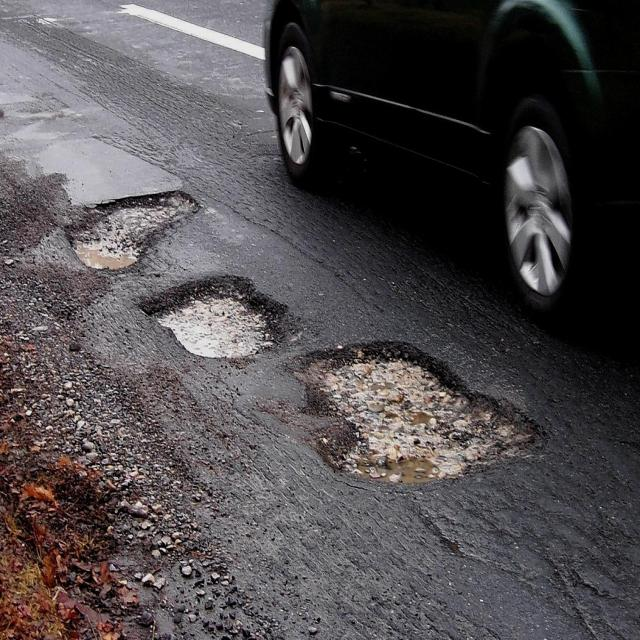road-pothole: (296, 335, 549, 496), (138, 270, 296, 359), (73, 184, 204, 272)
